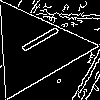I: (10, 23, 62, 60)
